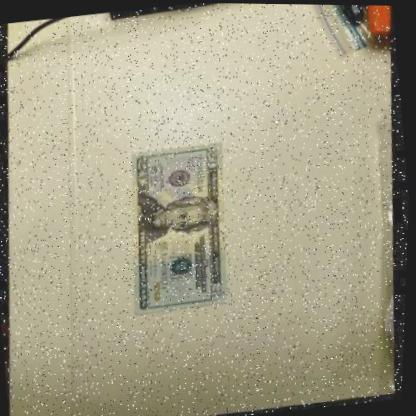dollar_front: (121, 140, 249, 315)
